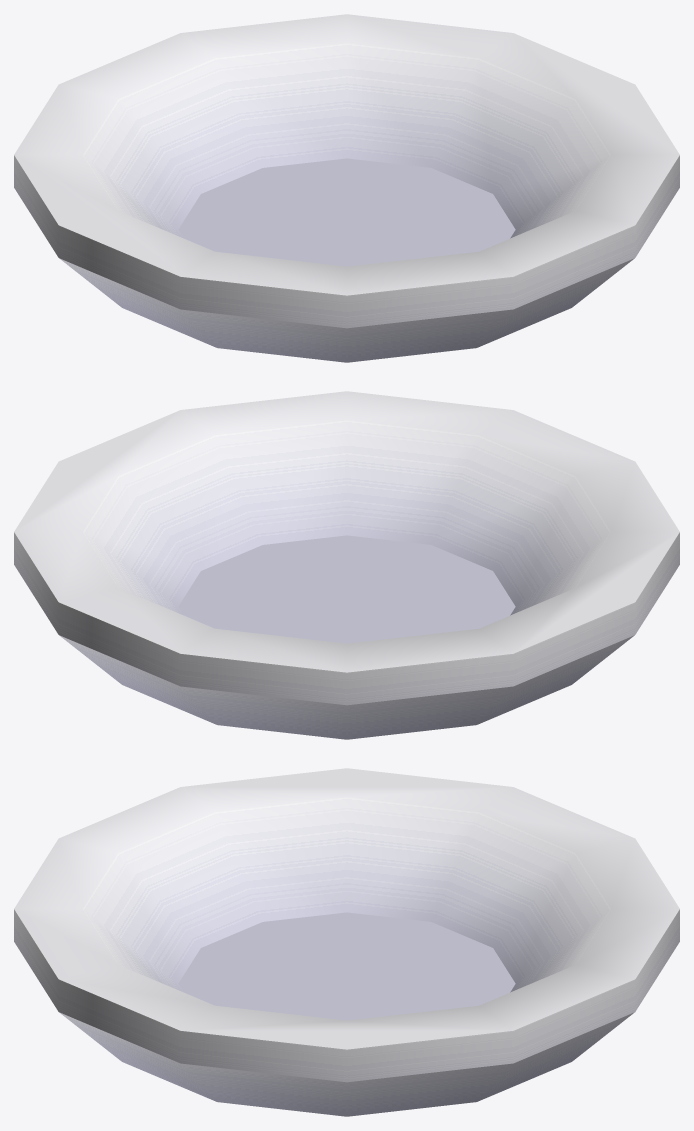
The model's file is kf_plate-deep.glb.
3 views of the same model, one above another, from view 1: azimuth 30°, elevation 25°; view 2: azimuth 150°, elevation 25°; view 3: azimuth 270°, elevation 25° (orthographic).
Visible parts, largest first — view 1: plate-deep; view 2: plate-deep; view 3: plate-deep.
Part boxes in pixels (x1=…): plate-deep: x1=14, y1=14, x2=679, y2=362; plate-deep: x1=14, y1=391, x2=679, y2=739; plate-deep: x1=14, y1=768, x2=679, y2=1116.
Bounding box in the file's own units: 0.2599 × 0.0422 × 0.2599.
Materials: 1 (1 with a texture image).
